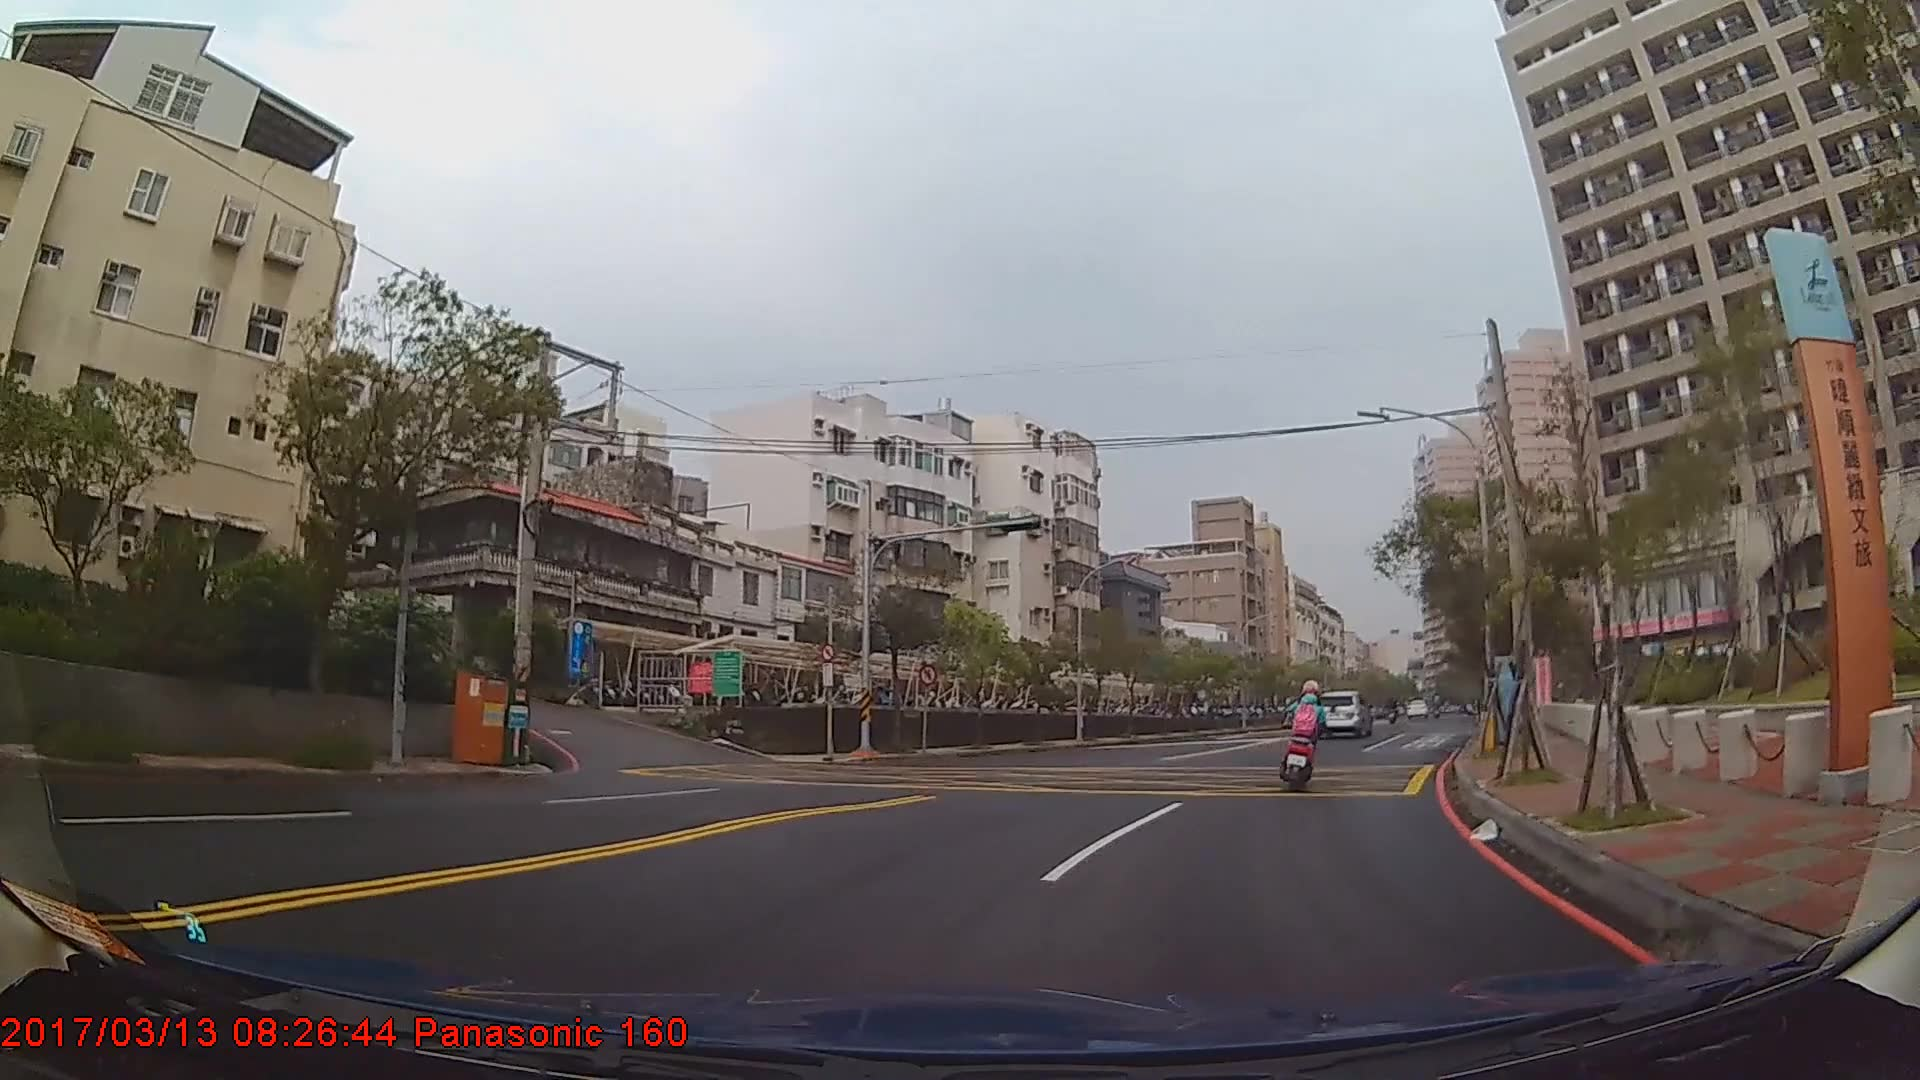rider: (1281, 679, 1330, 788)
vehicle: (1310, 688, 1375, 737)
